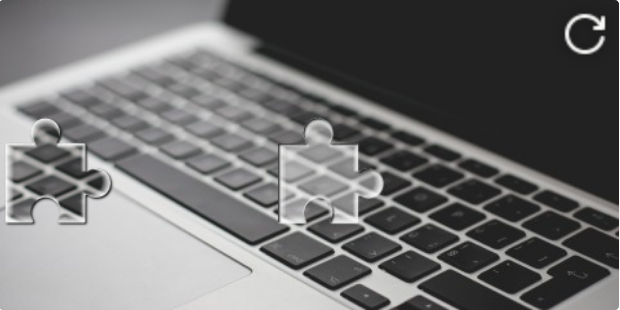target: (279, 119, 382, 223)
